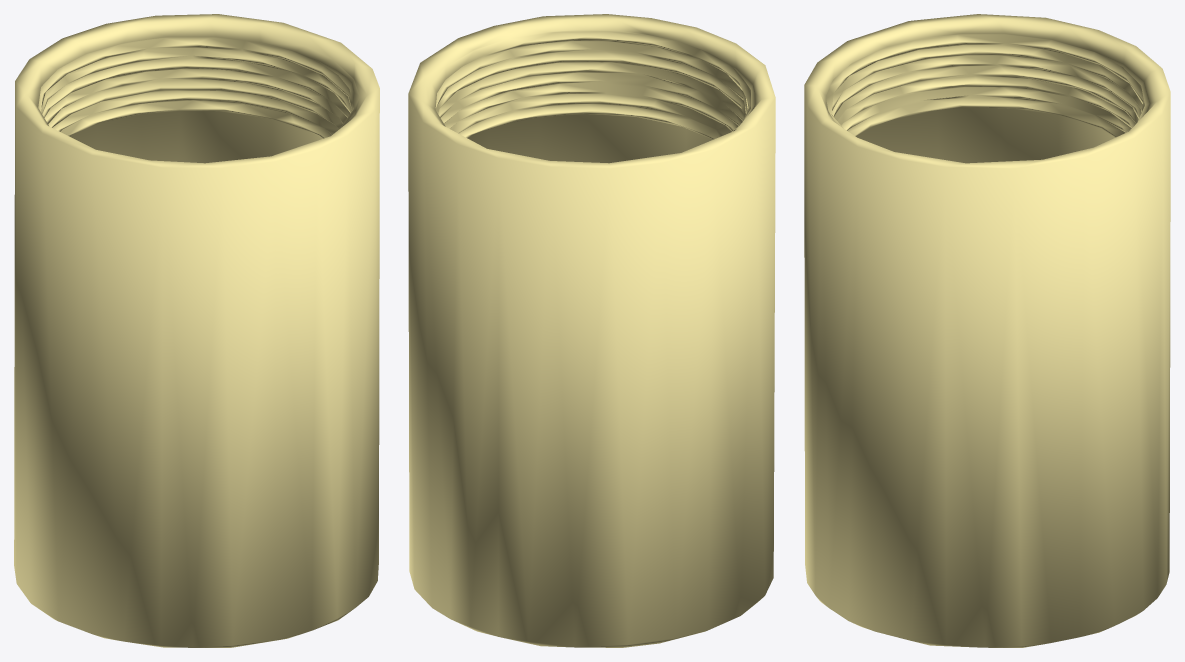
File: tru_co.dae
3 views of the same model, side by side, from view 1: azimuth 30°, elevation 25°; view 2: azimuth 150°, elevation 25°; view 3: azimuth 270°, elevation 25° (orthographic).
Parts seen in each view (by area): view 1: tru_co; view 2: tru_co; view 3: tru_co.
Part boxes in pixels (x1=…): tru_co: x1=14, y1=14, x2=379, y2=647; tru_co: x1=408, y1=14, x2=775, y2=647; tru_co: x1=804, y1=14, x2=1170, y2=647.
Size of the model in its own units: 0.0551 by 0.0551 by 0.08.
